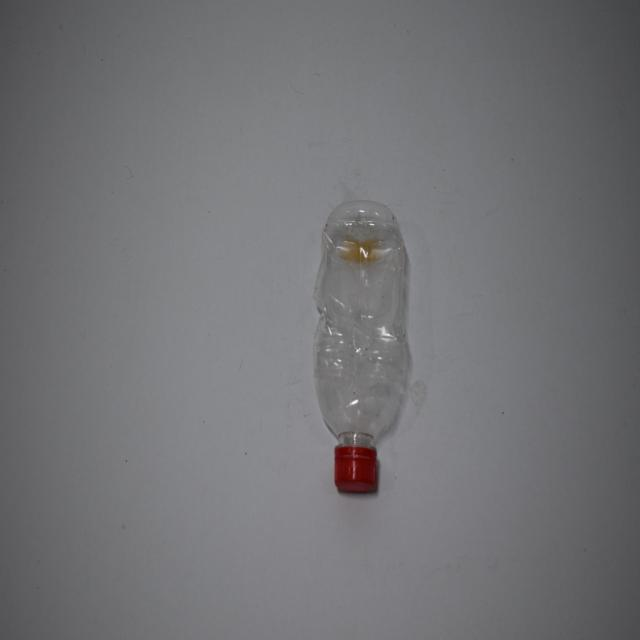empty: (314, 201, 407, 492)
